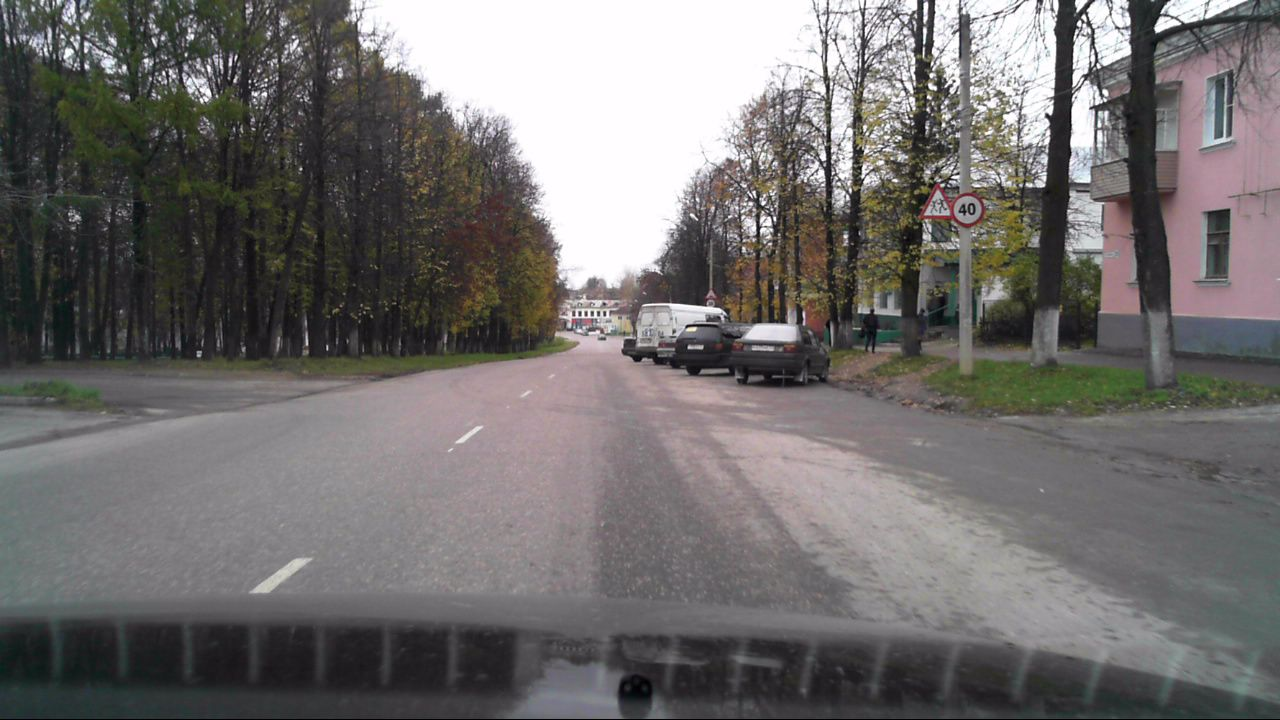speed_warning_40: (952, 193, 984, 227)
